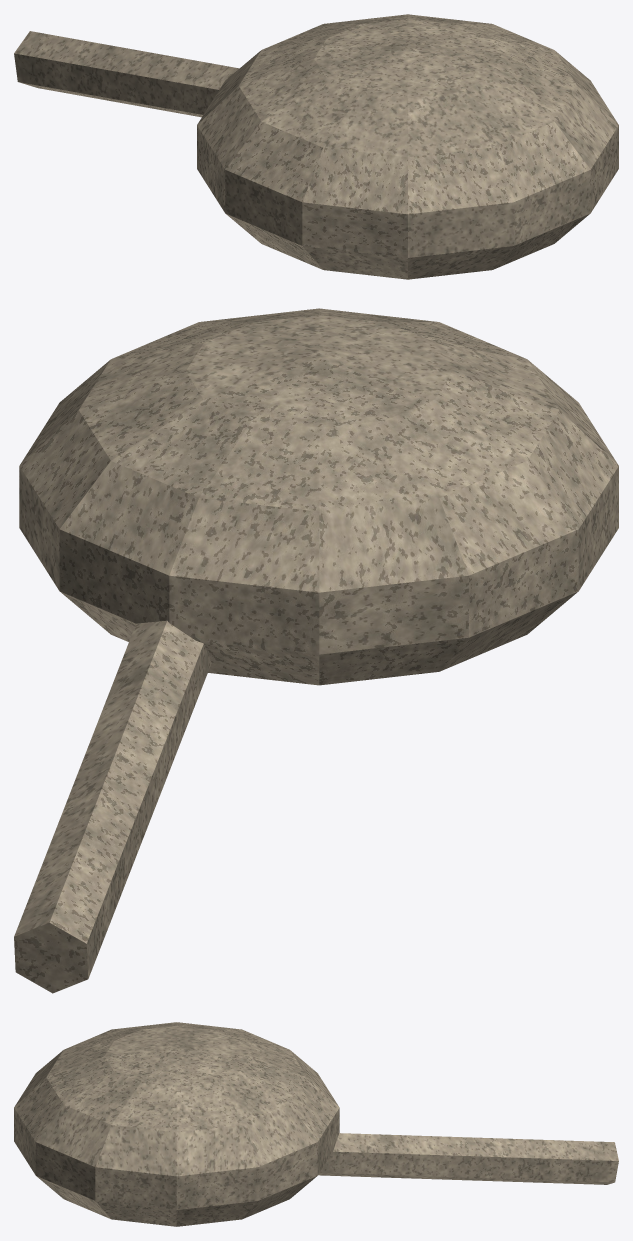
Rendered from find-seal.glb.
The picture shows the model from 3 angles, top to bottom: view 1: azimuth 30°, elevation 25°; view 2: azimuth 150°, elevation 25°; view 3: azimuth 270°, elevation 25°; orthographic projection. The views are drawn at different scales.
Parts seen in each view (by area): view 1: find-seal; view 2: find-seal; view 3: find-seal.
Boxes of the visible parts, bbox=[...] form: find-seal: bbox=[14, 14, 618, 279]; find-seal: bbox=[14, 308, 618, 993]; find-seal: bbox=[14, 1022, 618, 1226].
Size of the model in its own units: 0.195 by 0.1127 by 0.3623.
Materials: 1 (1 with a texture image).
